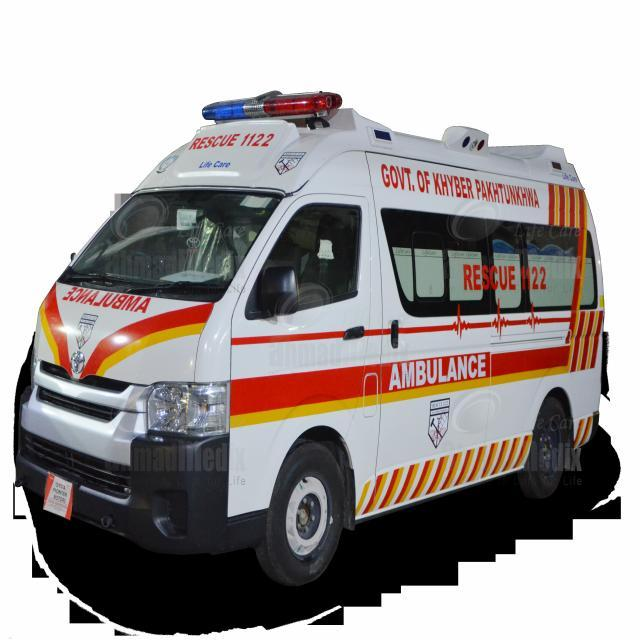emergency-vehicle: (7, 79, 633, 589)
